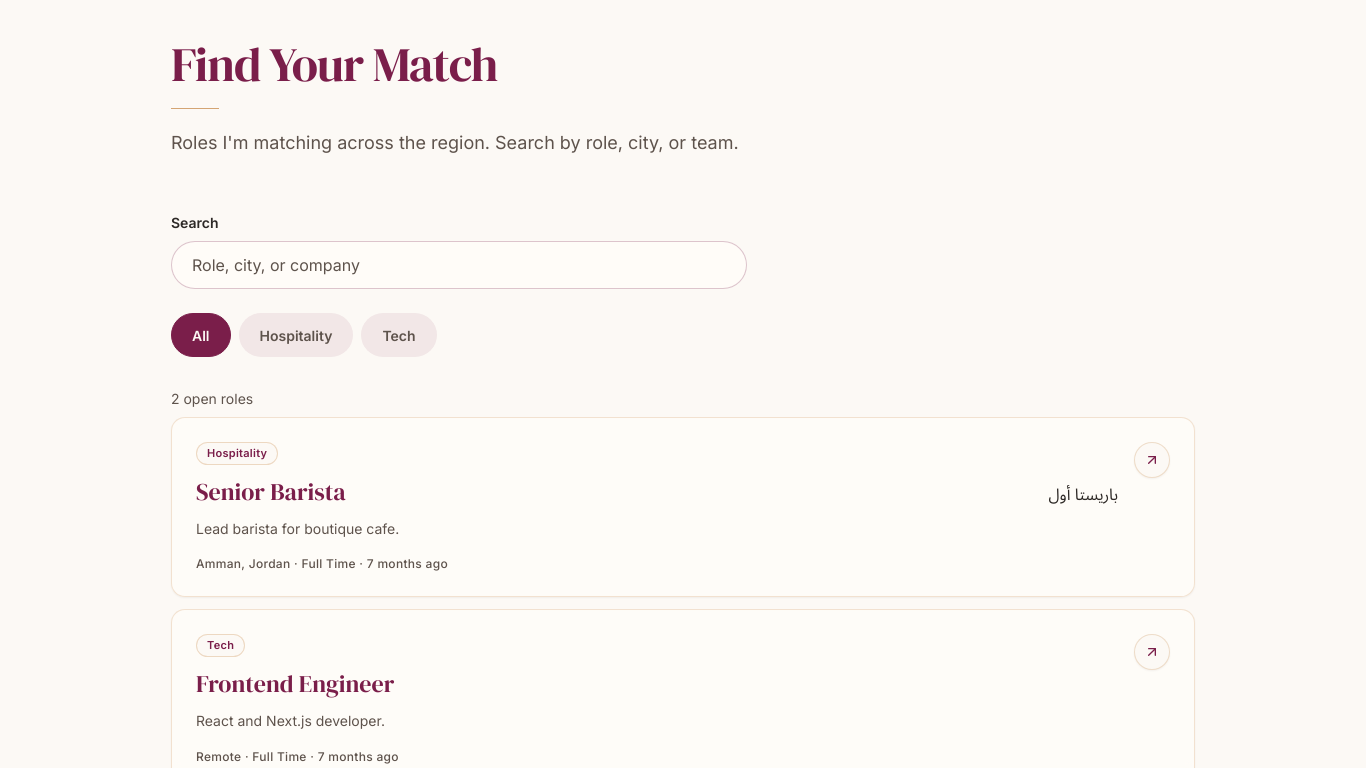
Test case: Phase 4 Jobs page › filters cards by category
What coordinates should you click on to do the following:
click the button with aria-label "Filter by tech"
I would click on:
 (399, 335)
Its box is [361,313,437,357].
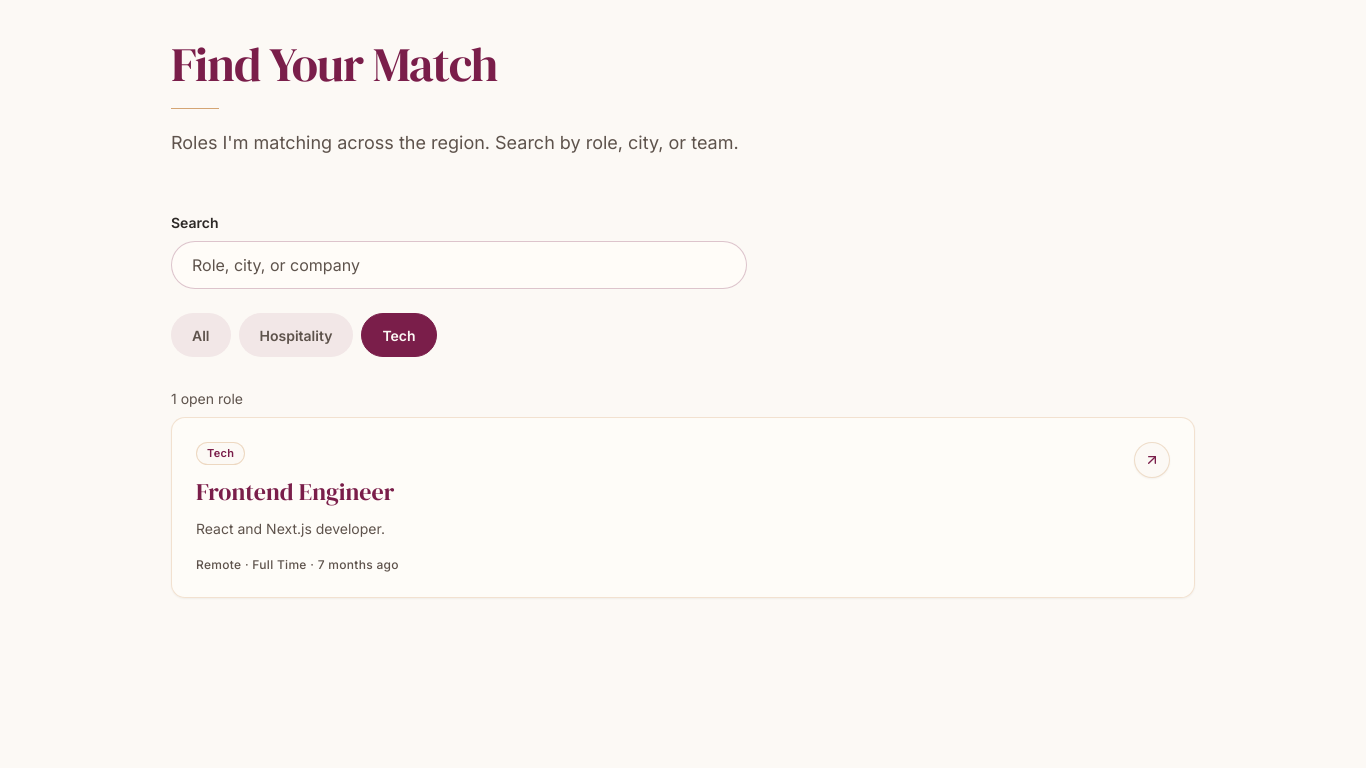
Expected: the text "Frontend Engineer" is shown, [196,474,394,508]
Expected: the text "Senior Barista" is gone
